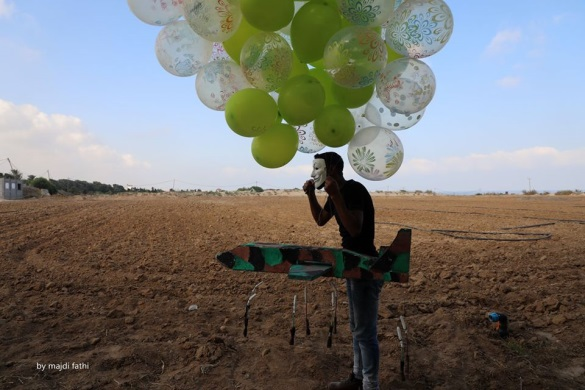Balloon: (323, 25, 388, 88), (388, 1, 455, 58), (378, 58, 437, 114), (239, 31, 294, 91), (156, 21, 214, 76), (291, 2, 340, 63), (350, 128, 405, 180), (225, 88, 278, 136), (195, 62, 245, 109), (280, 75, 326, 123), (252, 124, 300, 167), (188, 1, 237, 41), (314, 105, 358, 146)
